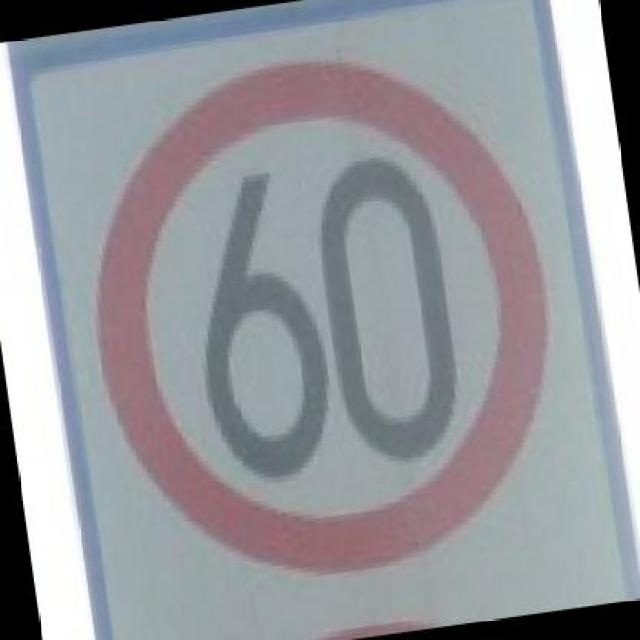Limite-60: (87, 54, 558, 572)
